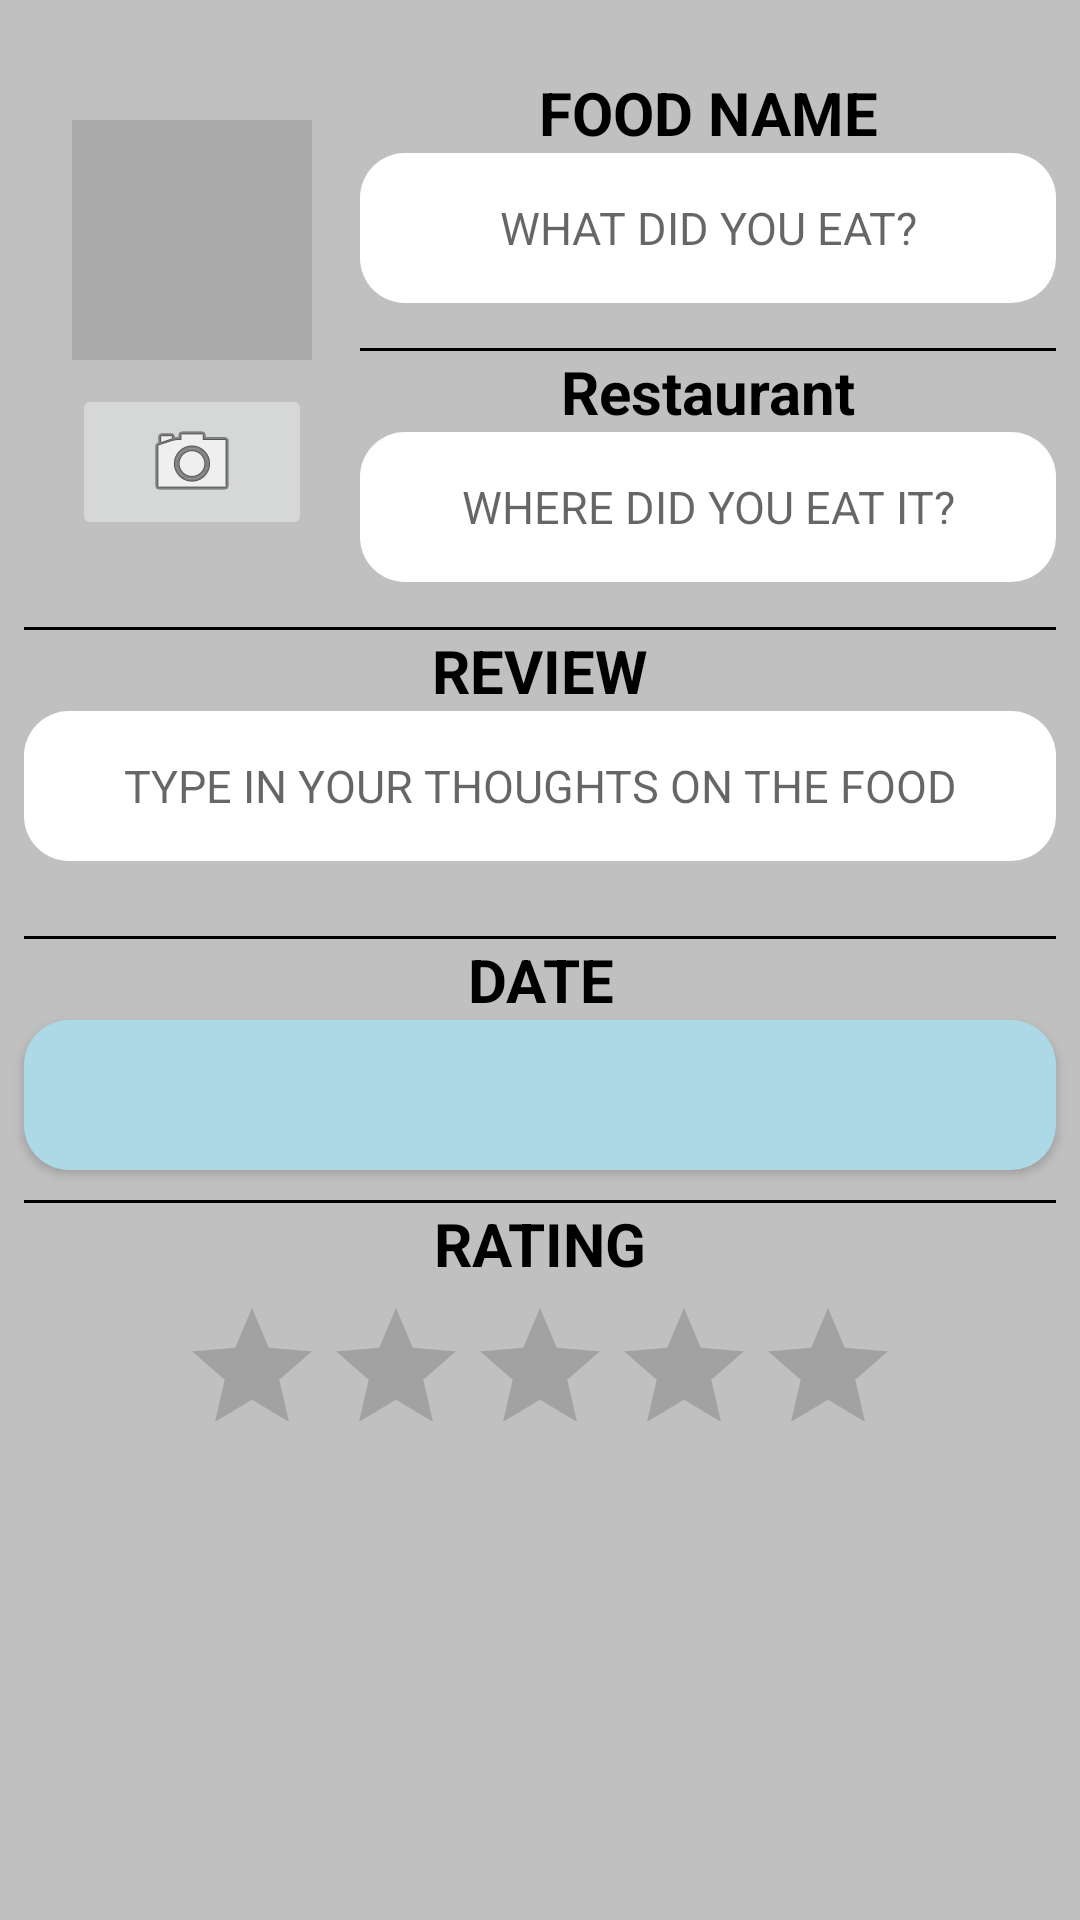

Where to tap for icons on this 1080 × 1920 app screen, as (x=x, y=y):
camera: (x=192, y=460)
